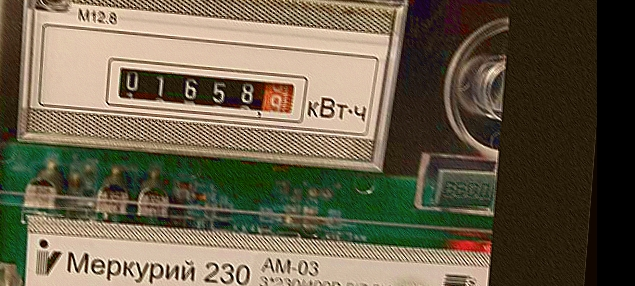0: (125, 67, 139, 90)
1: (154, 73, 166, 95)
5: (211, 78, 227, 102)
6: (182, 75, 198, 98)
8: (239, 79, 255, 102)
9: (266, 90, 282, 112)
screen: (99, 50, 315, 127)
